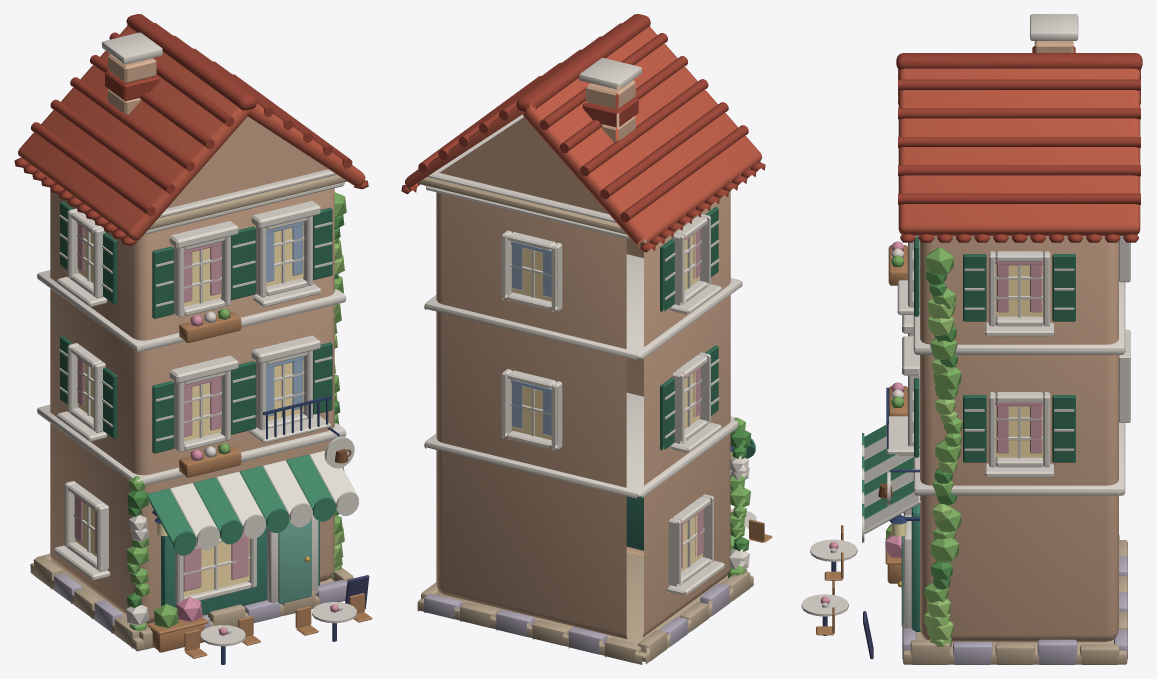
The model's file is ac_cafe_r0.glb.
3 views of the same model, side by side, from view 1: azimuth 30°, elevation 25°; view 2: azimuth 150°, elevation 25°; view 3: azimuth 270°, elevation 25° (orthographic). The views are drawn at different scales.
Visible parts, largest first — view 1: box; view 2: box; view 3: box.
Part boxes in pixels (left/top/right/bottom): box: left=14, top=14, right=372, bottom=664; box: left=401, top=14, right=772, bottom=664; box: left=801, top=14, right=1142, bottom=664.
Bounding box in the file's own units: 6.88 × 14.42 × 7.9.
